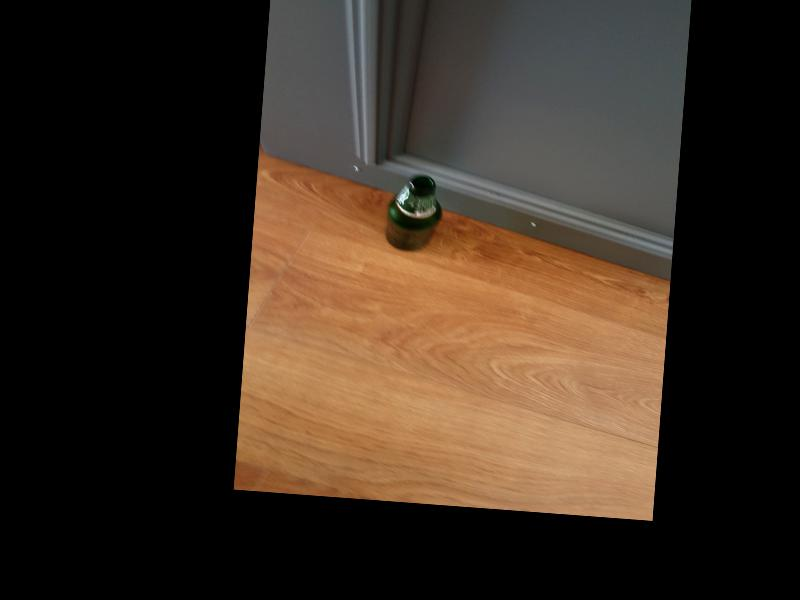Beer: (385, 173, 443, 252)
